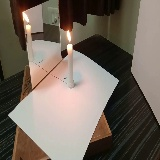fire: (67, 27, 72, 45)
